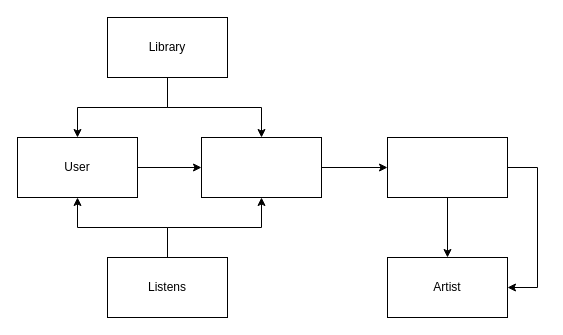
Some shapes in this 563 by 335 pixel diagram are drawn without their labels. The shapes that lost their labels are listed below. From the top down, each one's centre as x and y in pixels, then its label:
At point 261,167: "Song".
At point 447,167: "Album".
